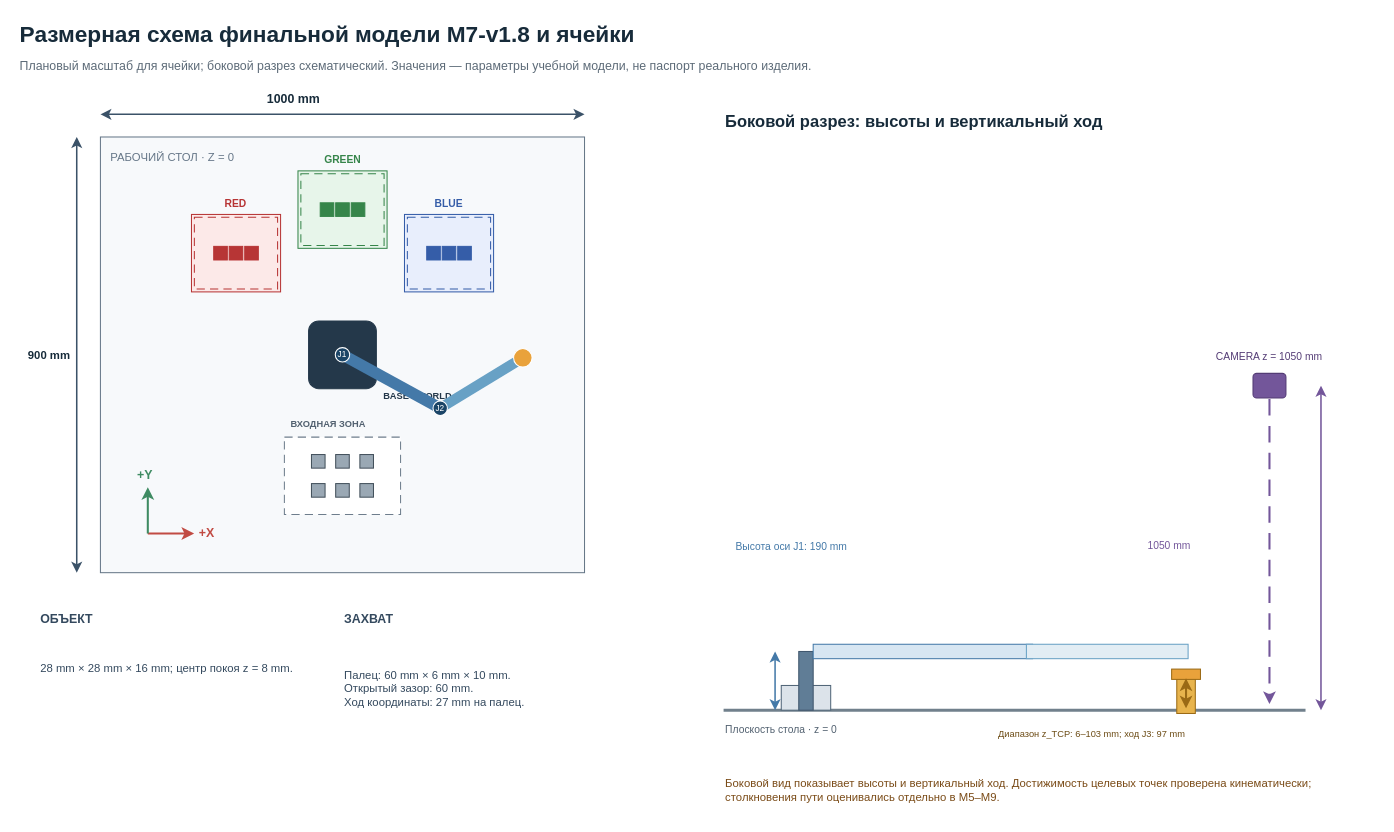
This 1394x832 diagram has some shape labels left out. The centre of each missing label's shape, as x and y in pixels:
CAM: (1269,385)
TCP: (522,357)
